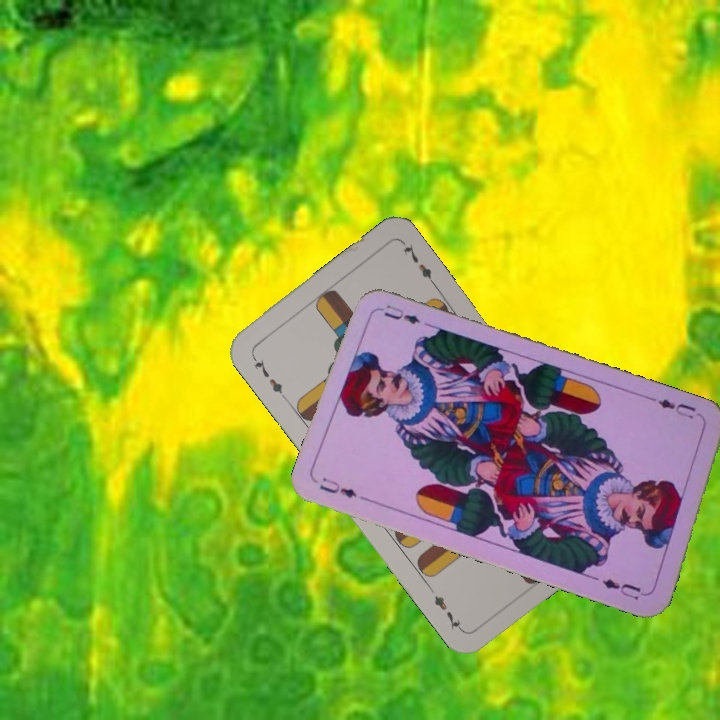E7: (248, 350, 288, 402)
EU: (650, 395, 707, 424), (315, 473, 359, 501)
